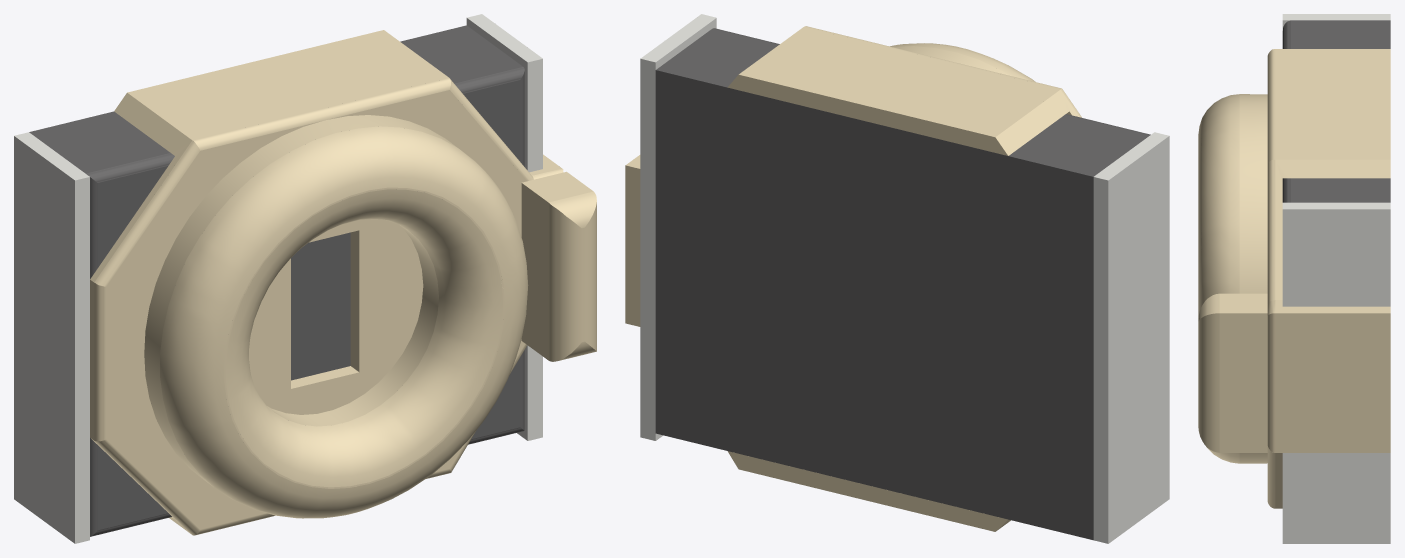
File: C_Trimmer_Voltronics_JV.glb
3 renders of one model, left to right at view 1: azimuth 30°, elevation 25°; view 2: azimuth 150°, elevation 25°; view 3: azimuth 270°, elevation 25°, orthographic. The views are drawn at different scales.
Visible parts, largest first — view 1: Shape_IndexedFaceSet.061, Shape_IndexedFaceSet.071, Shape_IndexedFaceSet.063, Shape_IndexedFaceSet.013, Shape_IndexedFaceSet, Shape_IndexedFaceSet.073, Shape_IndexedFaceSet.035, Shape_IndexedFaceSet.078, Shape_IndexedFaceSet.012, Shape_IndexedFaceSet.067, Shape_IndexedFaceSet.017, Shape_IndexedFaceSet.059 (+28 smaller); view 2: Shape_IndexedFaceSet.015, Shape_IndexedFaceSet.063, Shape_IndexedFaceSet, Shape_IndexedFaceSet.042, Shape_IndexedFaceSet.039, Shape_IndexedFaceSet.017, Shape_IndexedFaceSet.003, Shape_IndexedFaceSet.040, Shape_IndexedFaceSet.011, Shape_IndexedFaceSet.025, Shape_IndexedFaceSet.004, Shape_IndexedFaceSet.050 (+3 smaller); view 3: Shape_IndexedFaceSet.023, Shape_IndexedFaceSet, Shape_IndexedFaceSet.026, Shape_IndexedFaceSet.064, Shape_IndexedFaceSet.061, Shape_IndexedFaceSet.057, Shape_IndexedFaceSet.035, Shape_IndexedFaceSet.001, Shape_IndexedFaceSet.017, Shape_IndexedFaceSet.068, Shape_IndexedFaceSet.011, Shape_IndexedFaceSet.008 (+10 smaller).
Boxes of the visible parts, bbox=[...] form: Shape_IndexedFaceSet.061: bbox=[160, 126, 528, 518]; Shape_IndexedFaceSet.071: bbox=[226, 189, 502, 487]; Shape_IndexedFaceSet.063: bbox=[14, 136, 74, 543]; Shape_IndexedFaceSet.013: bbox=[106, 121, 321, 529]; Shape_IndexedFaceSet: bbox=[127, 30, 448, 140]; Shape_IndexedFaceSet.073: bbox=[249, 219, 423, 414]; Shape_IndexedFaceSet.035: bbox=[144, 115, 456, 486]; Shape_IndexedFaceSet.078: bbox=[291, 232, 350, 380]; Shape_IndexedFaceSet.012: bbox=[329, 90, 526, 471]; Shape_IndexedFaceSet.067: bbox=[75, 177, 89, 543]; Shape_IndexedFaceSet.017: bbox=[29, 111, 170, 173]; Shape_IndexedFaceSet.059: bbox=[548, 203, 581, 361]; Shape_IndexedFaceSet.015: bbox=[655, 70, 1093, 540]; Shape_IndexedFaceSet.063: bbox=[1108, 136, 1169, 543]; Shape_IndexedFaceSet: bbox=[739, 27, 1060, 137]; Shape_IndexedFaceSet.042: bbox=[640, 58, 655, 440]; Shape_IndexedFaceSet.039: bbox=[1093, 177, 1108, 543]; Shape_IndexedFaceSet.017: bbox=[1009, 114, 1149, 176]; Shape_IndexedFaceSet.003: bbox=[727, 74, 1007, 155]; Shape_IndexedFaceSet.040: bbox=[727, 451, 1007, 531]; Shape_IndexedFaceSet.011: bbox=[656, 28, 778, 87]; Shape_IndexedFaceSet.025: bbox=[625, 165, 640, 326]; Shape_IndexedFaceSet.004: bbox=[995, 89, 1079, 155]; Shape_IndexedFaceSet.050: bbox=[641, 14, 716, 62]; Shape_IndexedFaceSet.023: bbox=[1275, 313, 1390, 452]; Shape_IndexedFaceSet: bbox=[1275, 49, 1390, 159]; Shape_IndexedFaceSet.026: bbox=[1282, 209, 1390, 306]; Shape_IndexedFaceSet.064: bbox=[1282, 453, 1390, 543]; Shape_IndexedFaceSet.061: bbox=[1198, 94, 1239, 463]; Shape_IndexedFaceSet.057: bbox=[1219, 313, 1267, 452]; Shape_IndexedFaceSet.035: bbox=[1239, 94, 1267, 463]; Shape_IndexedFaceSet.001: bbox=[1275, 159, 1390, 299]; Shape_IndexedFaceSet.017: bbox=[1290, 20, 1390, 48]; Shape_IndexedFaceSet.068: bbox=[1198, 313, 1219, 452]; Shape_IndexedFaceSet.011: bbox=[1290, 178, 1390, 202]; Shape_IndexedFaceSet.008: bbox=[1267, 159, 1275, 303].
Bounding box in the file's own units: 1.26 × 0.984 × 0.492.
